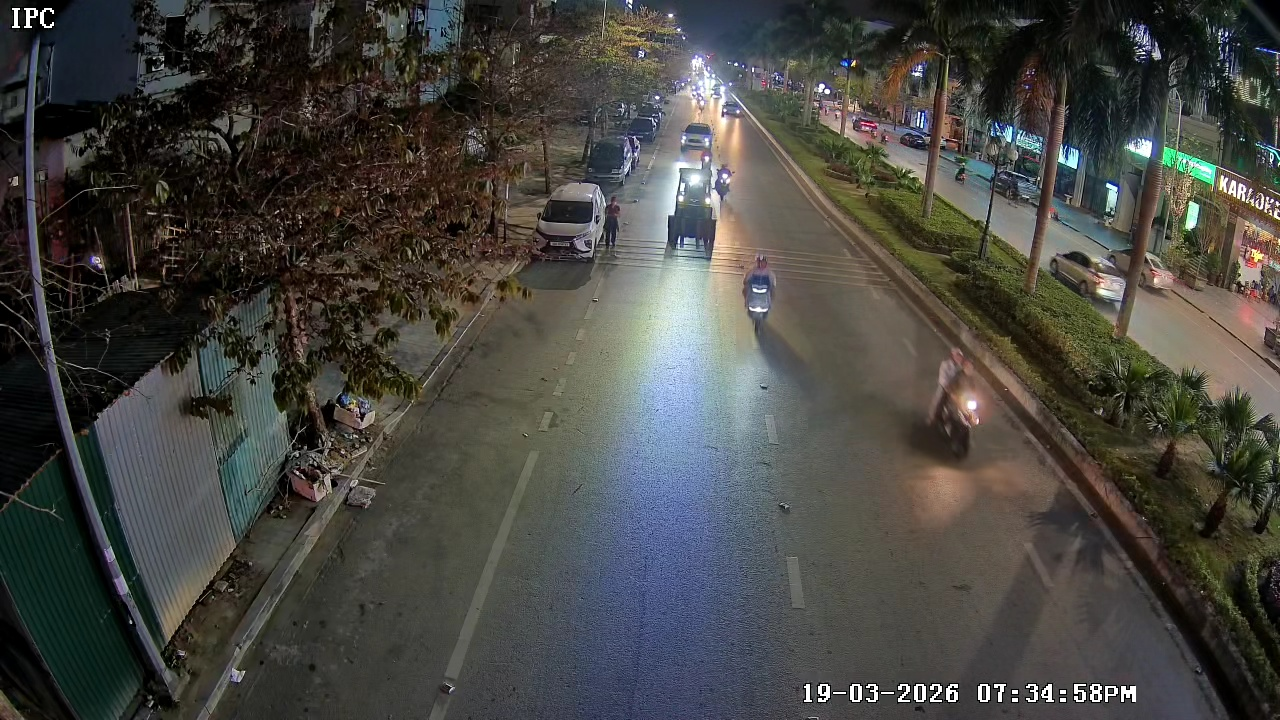car: (533, 179, 621, 267), (583, 132, 639, 197), (679, 120, 714, 154), (720, 98, 742, 122)
motorbike: (926, 348, 984, 459), (742, 251, 777, 338), (714, 165, 734, 199)
pedestrian: (602, 194, 626, 254)
truck: (663, 165, 723, 264)
